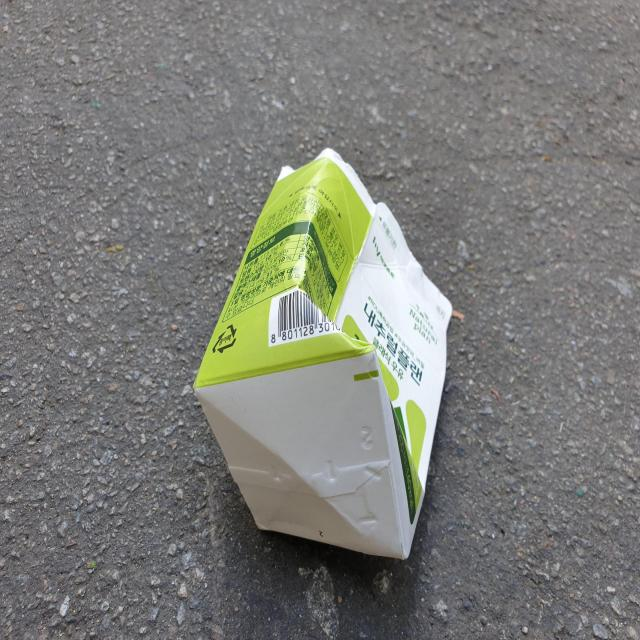paperpack: (194, 148, 452, 559)
